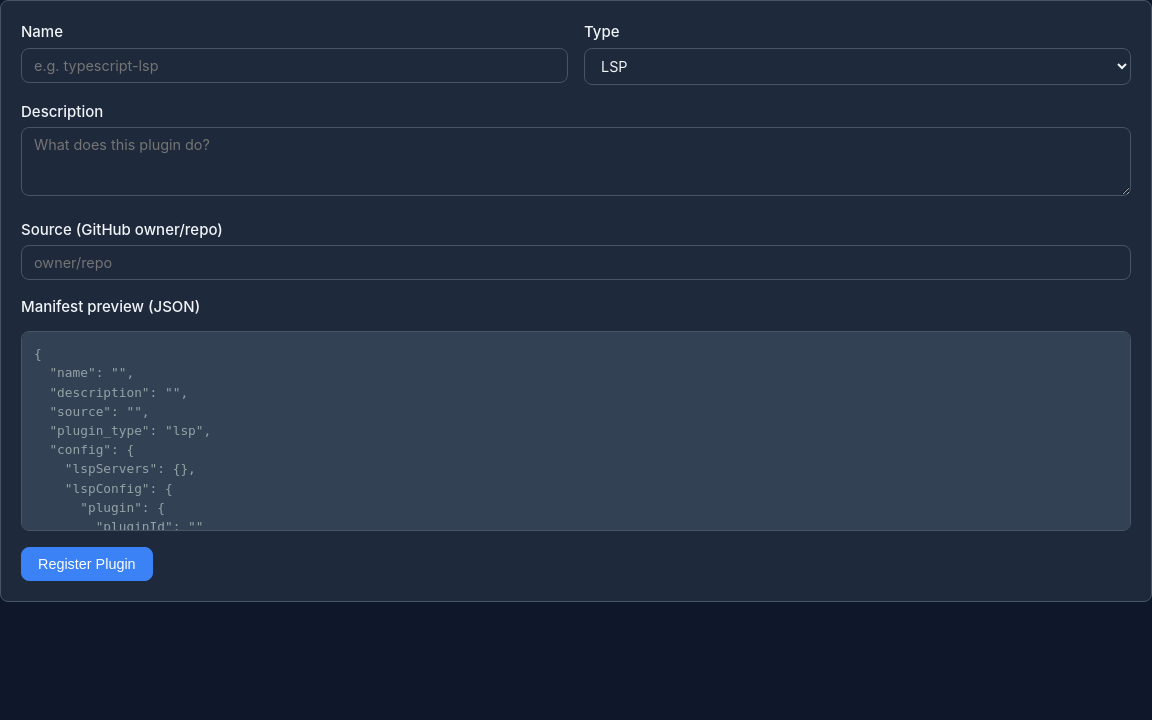
Test: PluginForm › shows validation error when required fields are empty
Click the button "Register Plugin". click: (87, 564)
box: x1=21 y1=547 x2=153 y2=581
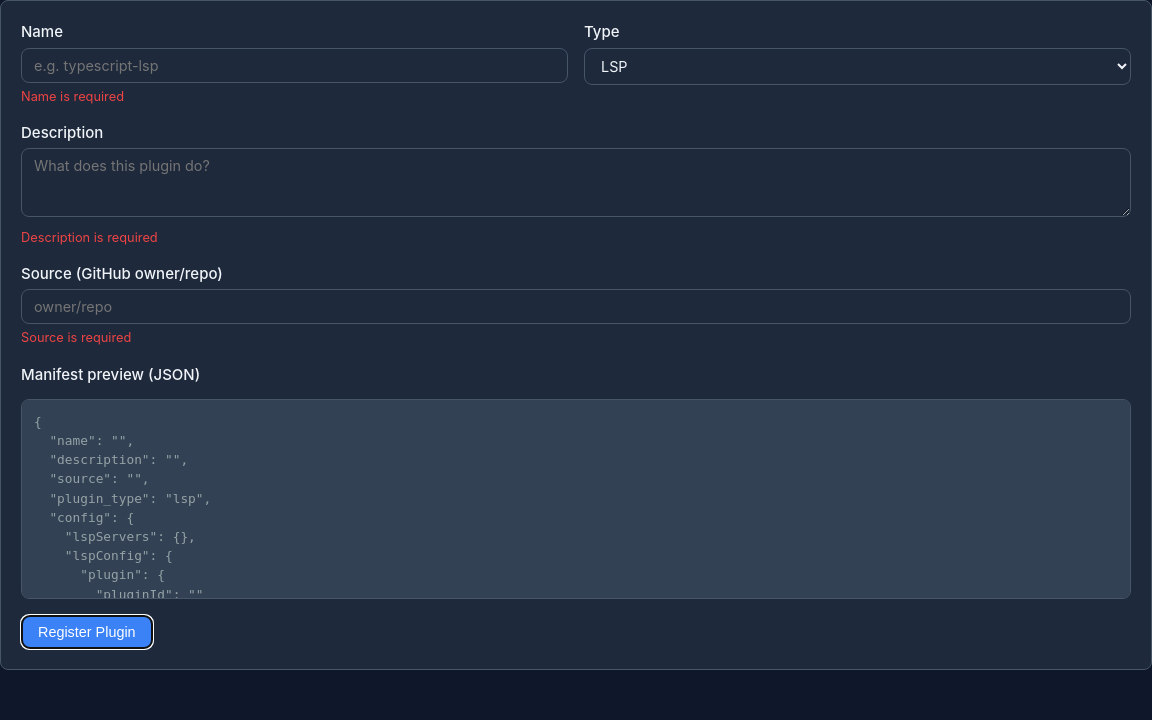
Expected: the text "Name is required" is shown, x1=21 y1=88 x2=124 y2=104
Expected: the text "Description is required" is shown, x1=21 y1=230 x2=158 y2=245
Expected: the text "Source is required" is shown, x1=21 y1=330 x2=131 y2=345
